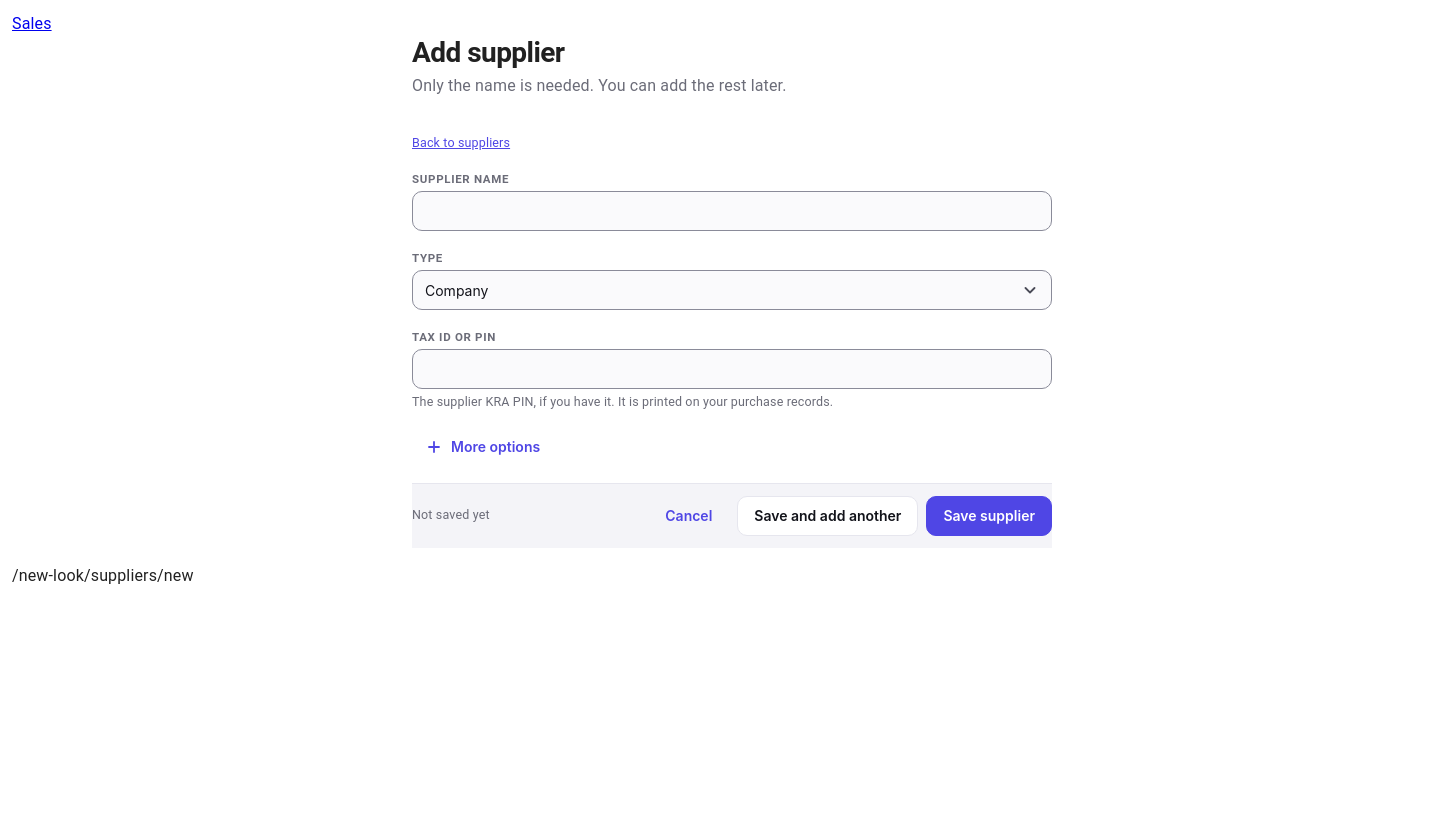
Test case: the Add supplier form (AC-26) › the group offers No group and the shop groups
The width and height of the screenshot is (1452, 822).
Click the button "More options".
click(483, 447)  # box [412,431,553,463]
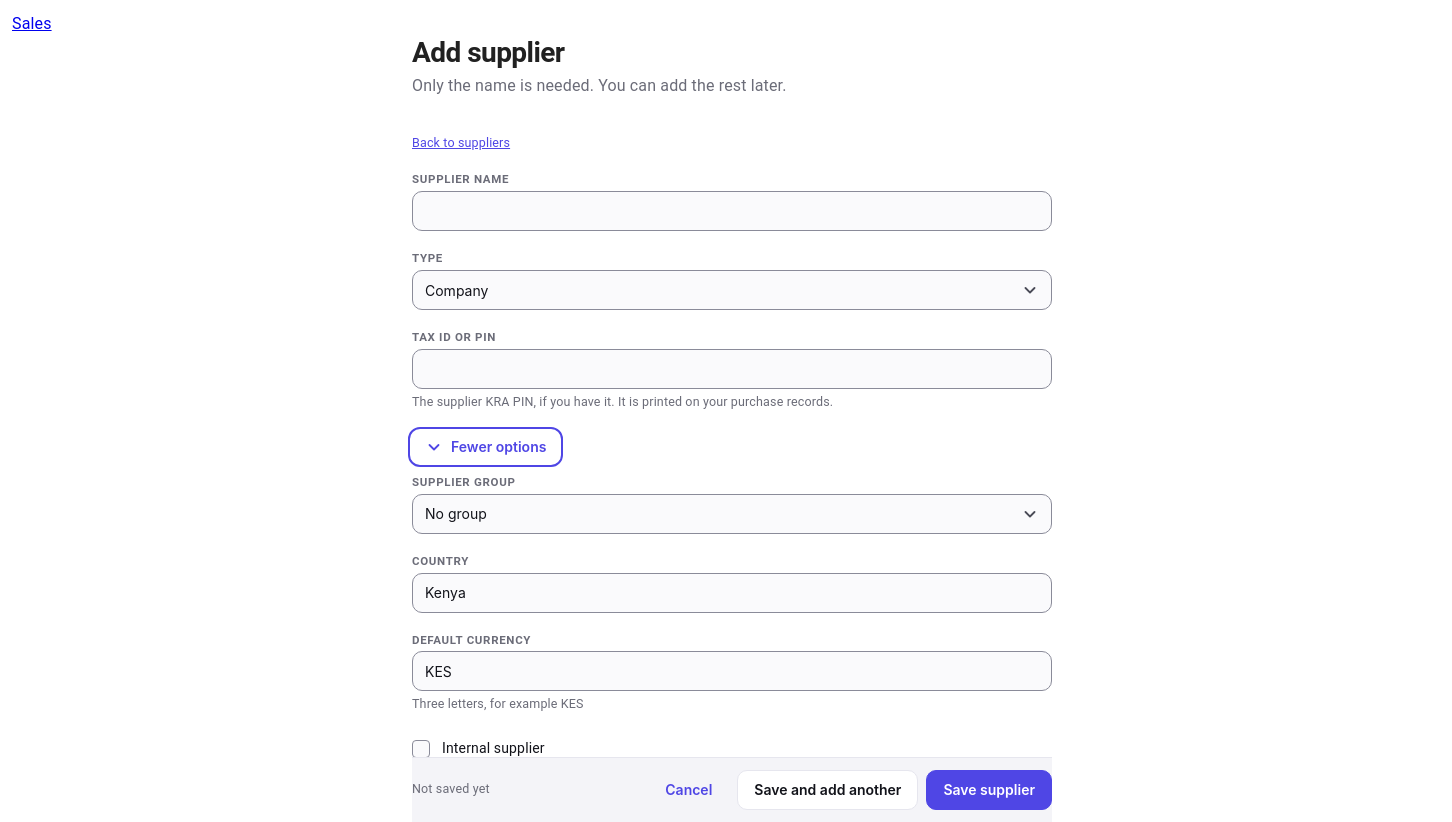
Click the dropdown named "Supplier group".
click(456, 514)  # box [412,494,1052,534]
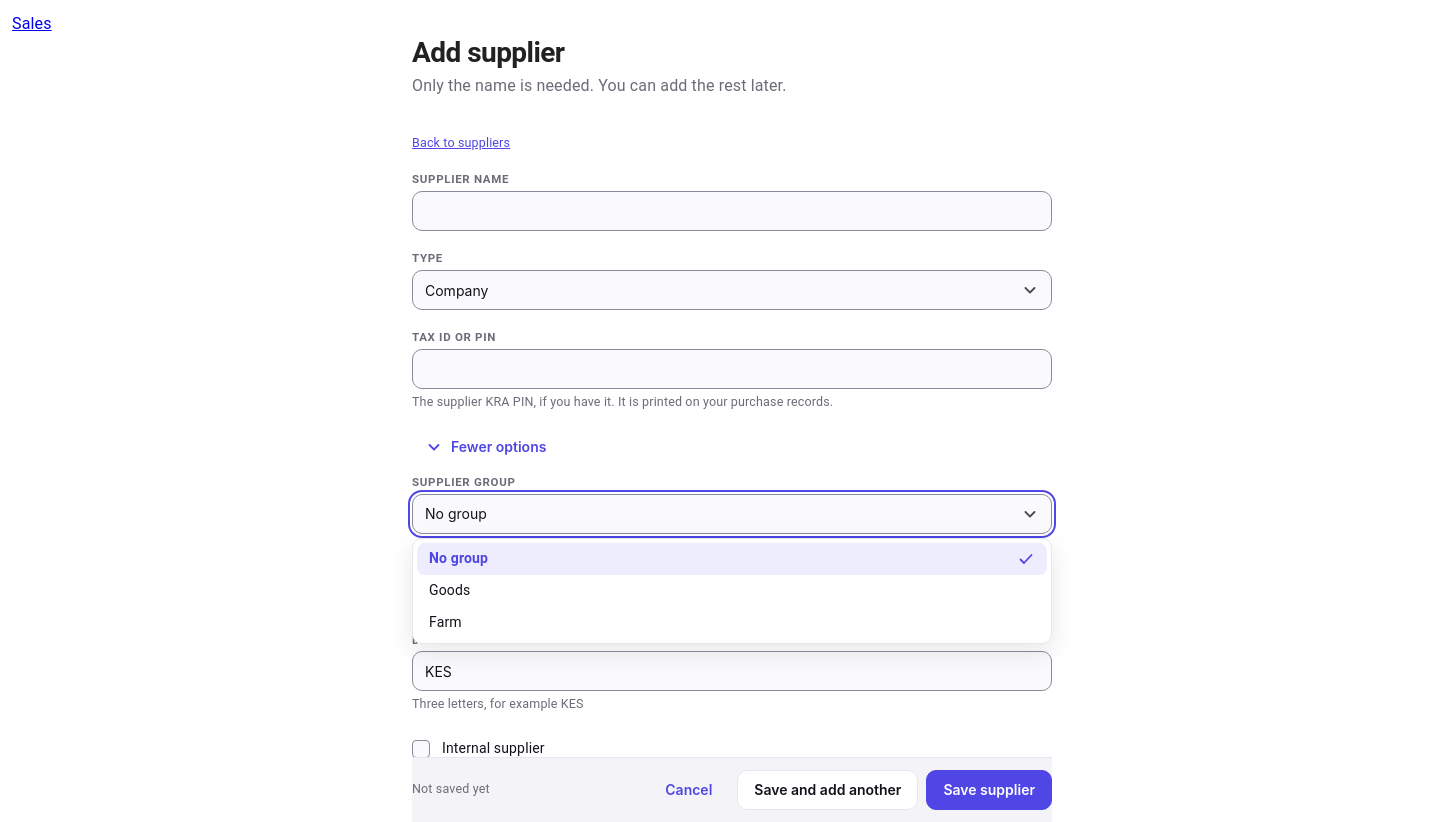
Expected: the options read "No group", "Goods", "Farm", in this order, [417,543,1047,575]; [429,582,470,598]; [429,614,462,630]
